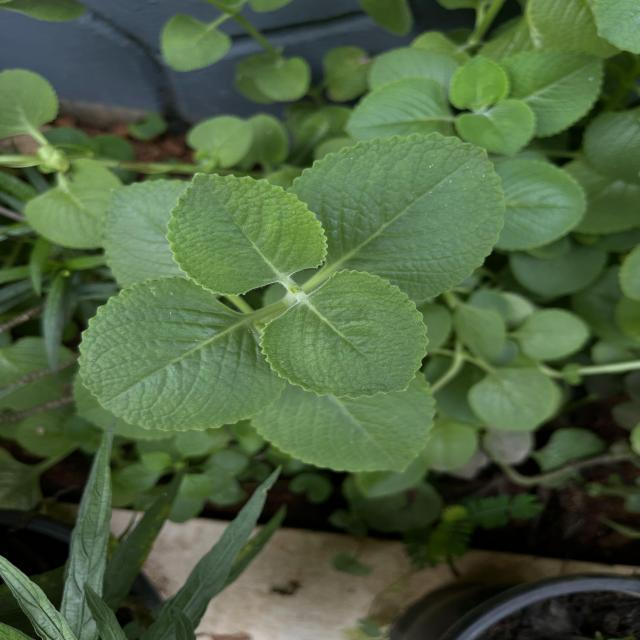Plectranthus barbatus: (284, 130, 508, 302), (75, 274, 288, 432), (258, 266, 432, 401), (164, 170, 330, 298), (250, 381, 442, 475), (504, 46, 608, 136), (344, 75, 456, 138), (454, 100, 540, 158)
